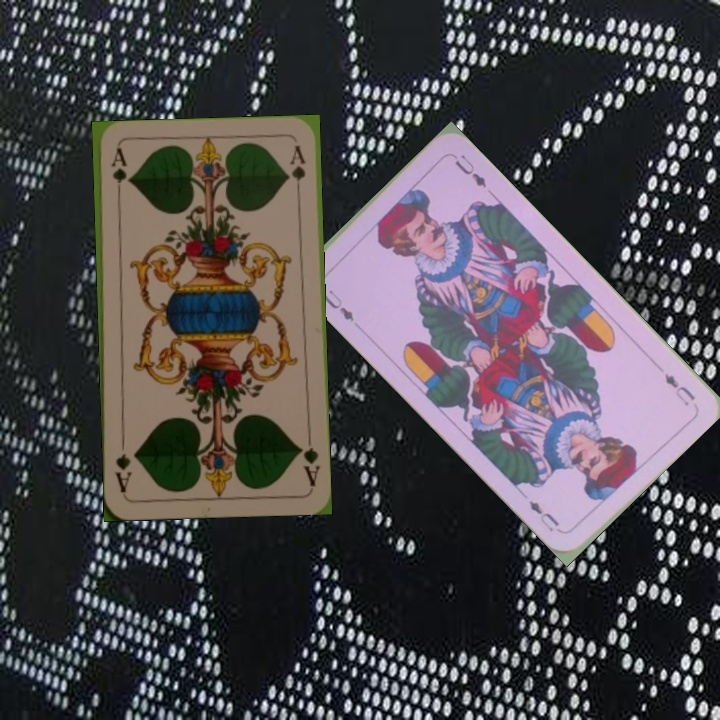EU: (318, 285, 357, 325), (660, 368, 698, 409)
GA: (294, 429, 322, 489), (107, 145, 127, 204)
